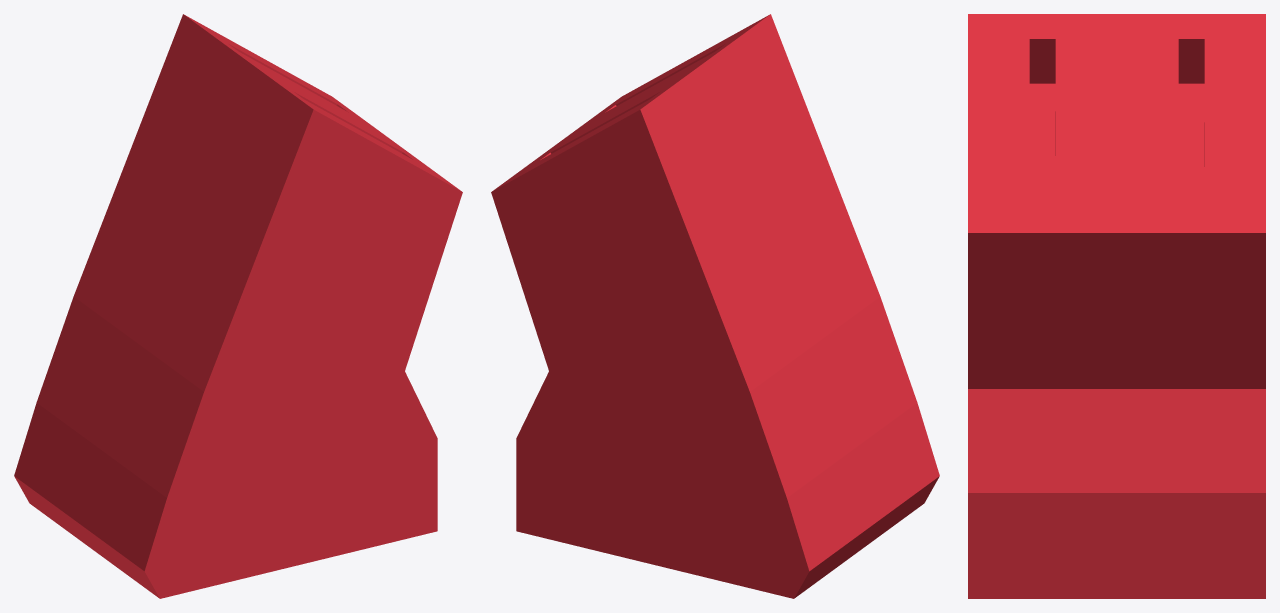
The model's file is Knife Block.fbx.
3 renders of one model, left to right at view 1: azimuth 30°, elevation 25°; view 2: azimuth 150°, elevation 25°; view 3: azimuth 270°, elevation 25°, orthographic. The views are drawn at different scales.
Parts seen in each view (by area): view 1: Cube; view 2: Cube; view 3: Cube.
Boxes of the visible parts, x1,y1,x2,y2 form: Cube: (14, 14, 462, 598); Cube: (491, 14, 939, 598); Cube: (968, 14, 1265, 598).
Bounding box in the file's own units: 172 × 233 × 122.
